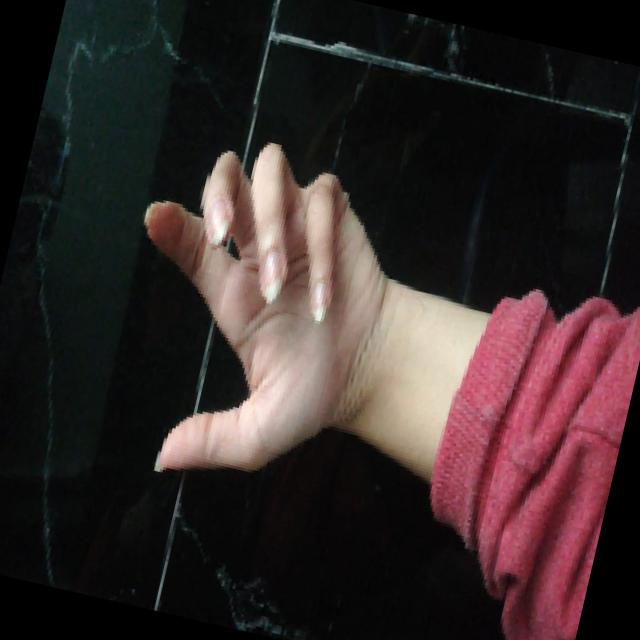Nail: (205, 199, 229, 244), (261, 253, 283, 300), (310, 280, 327, 321)
